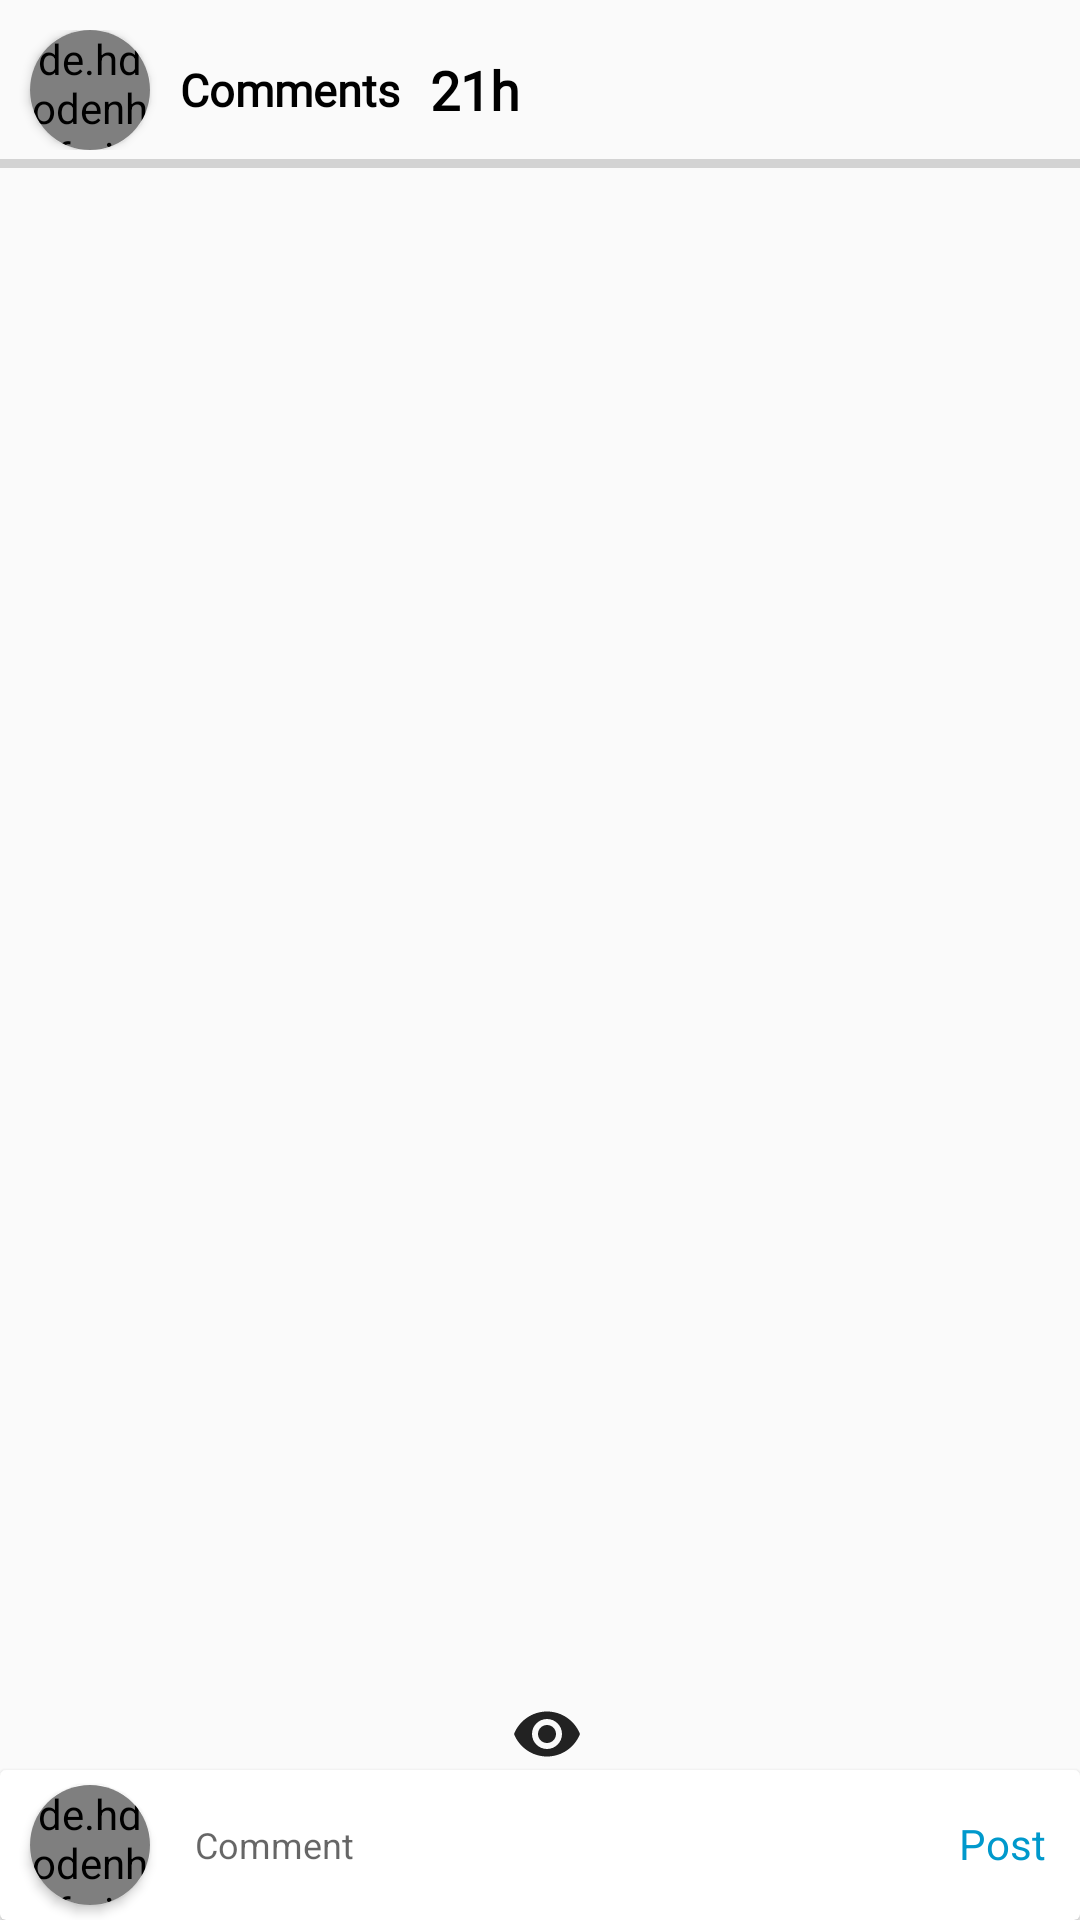

Where icons sit on this 1080×1920 app screen, as [left=x1, top=y1, right=x2, bottom=y2]:
eye: [left=514, top=1711, right=580, bottom=1757]
